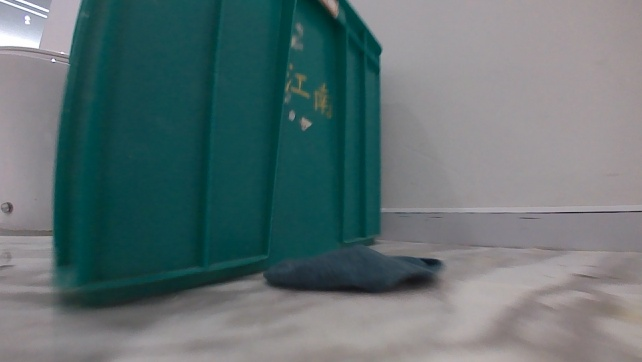socks: (261, 240, 447, 293)
toilet: (0, 42, 69, 235)
